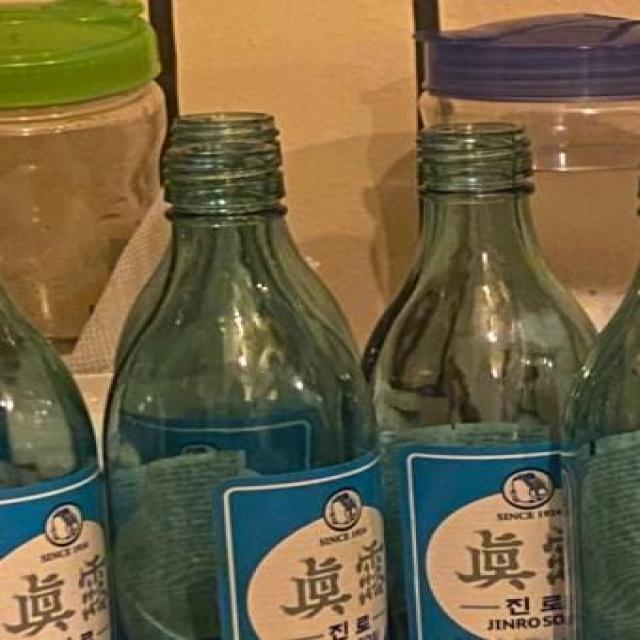soju-bottle: (98, 138, 390, 640), (358, 120, 604, 640), (111, 111, 369, 388), (2, 268, 115, 633), (561, 160, 638, 638)
